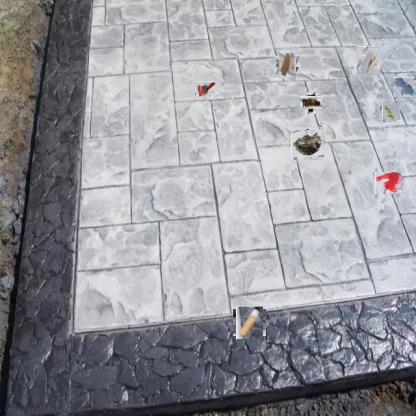dirty: (293, 128, 323, 159), (235, 308, 264, 337), (358, 46, 382, 75), (276, 54, 299, 76), (381, 104, 399, 121), (303, 94, 320, 112), (195, 81, 215, 96)
liquid: (375, 172, 402, 194), (394, 77, 416, 96)
